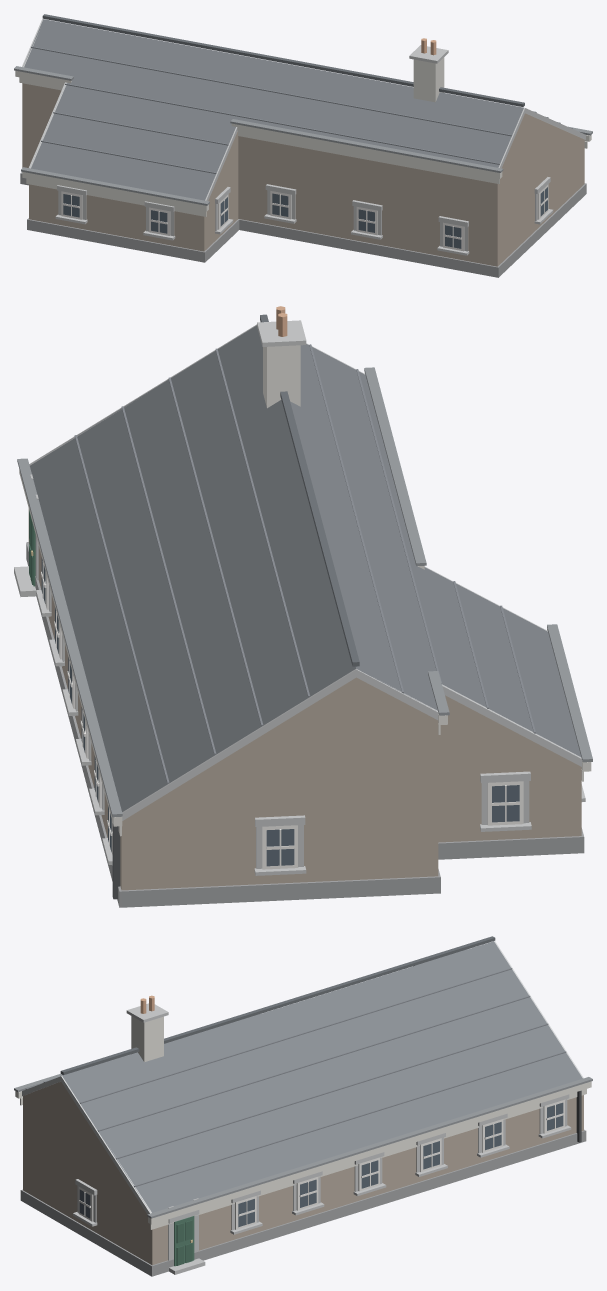
The picture shows the model from 3 angles, top to bottom: view 1: azimuth 30°, elevation 25°; view 2: azimuth 150°, elevation 25°; view 3: azimuth 270°, elevation 25°; orthographic projection. The views are drawn at different scales.
Parts seen in each view (by area): view 1: slate, harl_brown, plinth, string, stone_band, lead, slate_lt, slate_dk, frame, chim_render; view 2: slate, harl_brown, stone_band, plinth, lead, slate_lt, frame, slate_dk, chim_render, string, window_glass_007, window_glass_008; view 3: slate, harl_brown, plinth, stone_band, string, slate_lt, lead, slate_dk, frame, chim_render, door_green_p, door_green.
Part boxes in pixels (x1,y1,x2,y2): slate: (23,19,523,200); harl_brown: (22,83,584,266); plinth: (20,172,586,277); string: (15,70,591,216); stone_band: (22,19,585,255); lead: (14,66,592,205); slate_lt: (31,46,572,173); slate_dk: (42,14,524,106); frame: (61,184,548,251); chim_render: (413,57,444,102); slate: (30,325,581,811); harl_brown: (28,509,581,890); stone_band: (14,320,585,875); plinth: (26,542,584,907); lead: (17,367,592,817); slate_lt: (74,344,535,783); frame: (41,561,523,869); slate_dk: (260,314,359,666); chim_render: (263,345,300,408); string: (19,373,591,836); window_glass_007: (266,829,294,866); window_glass_008: (492,785,519,822); slate: (62,941,582,1212); harl_brown: (23,1081,583,1265); plinth: (20,1129,586,1276); stone_band: (22,941,583,1274); string: (15,1081,591,1229); slate_lt: (25,968,566,1187); lead: (14,949,592,1218); slate_dk: (60,936,495,1075); frame: (78,1099,564,1229); chim_render: (131,1016,163,1061); door_green_p: (176,1220,192,1265); door_green: (174,1216,194,1266).
Size of the model in its own units: 21.4 by 8.47 by 22.38.
